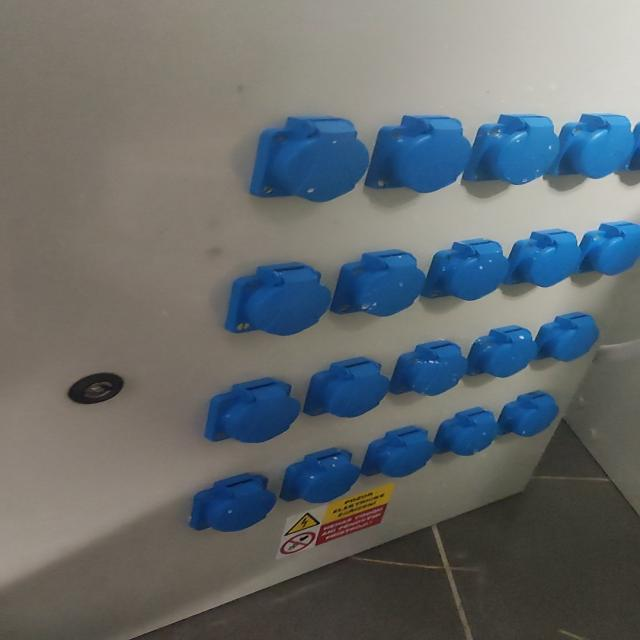house plug covered: (248, 118, 370, 205), (367, 116, 471, 196), (224, 264, 330, 338), (463, 114, 561, 186), (329, 249, 426, 318), (204, 377, 301, 444), (545, 113, 632, 179), (421, 238, 508, 302), (303, 357, 390, 418), (188, 474, 276, 534), (281, 448, 361, 504), (389, 342, 470, 397), (512, 229, 582, 287), (362, 426, 434, 478), (468, 325, 537, 377), (579, 221, 640, 275), (433, 407, 500, 456), (535, 312, 599, 362), (497, 391, 559, 438)
